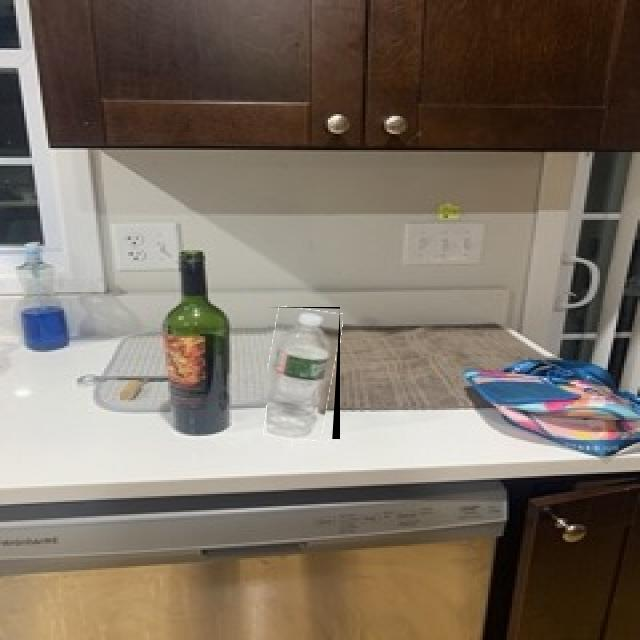water_bottle: (267, 308, 340, 440)
